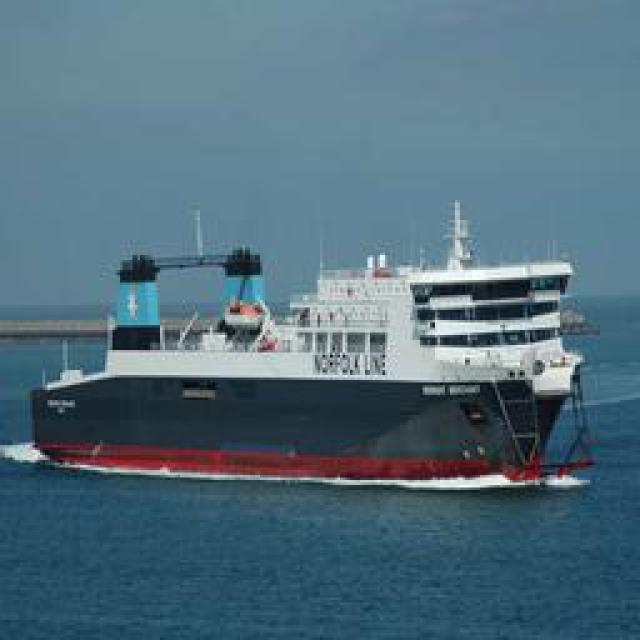Ship: (30, 208, 610, 473)
